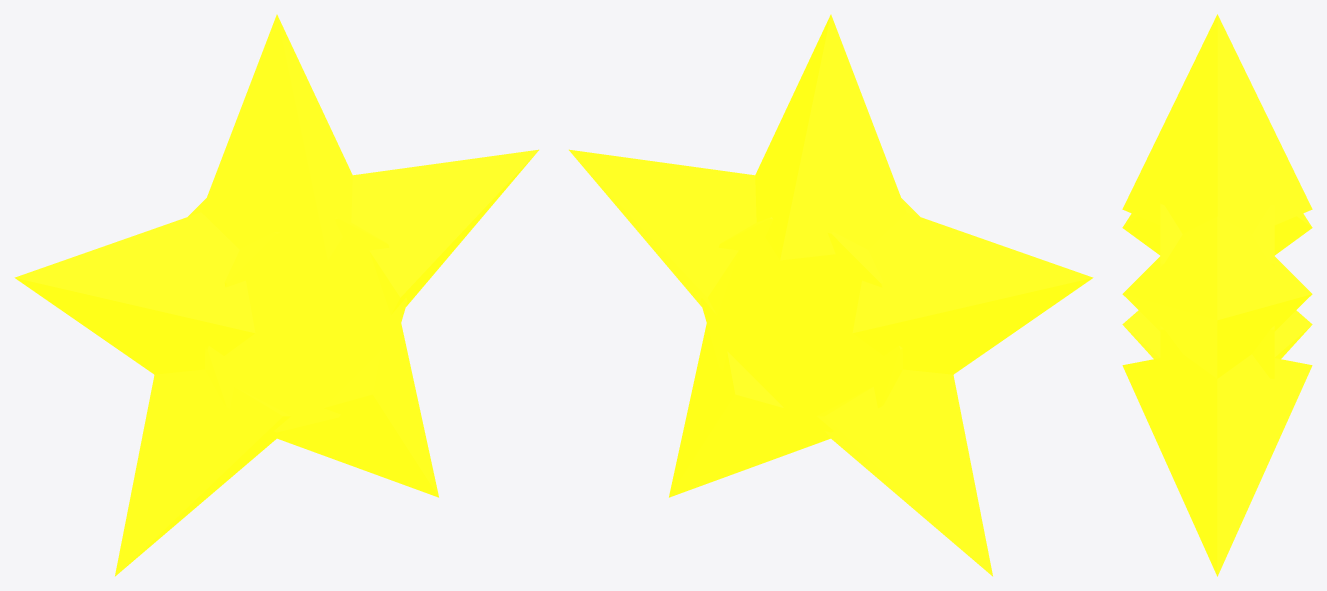
Rendered from star.glb.
3 views of the same model, side by side, from view 1: azimuth 30°, elevation 25°; view 2: azimuth 150°, elevation 25°; view 3: azimuth 270°, elevation 25° (orthographic). The views are drawn at different scales.
Visible parts, largest first — view 1: Core; view 2: Core; view 3: Core.
Part boxes in pixels (box(x1,y1,x2,y2)): Core: box(14, 14, 538, 576); Core: box(569, 14, 1093, 576); Core: box(1122, 14, 1312, 576).
Size of the model in its own units: 0.8934 by 0.8505 by 0.3.
